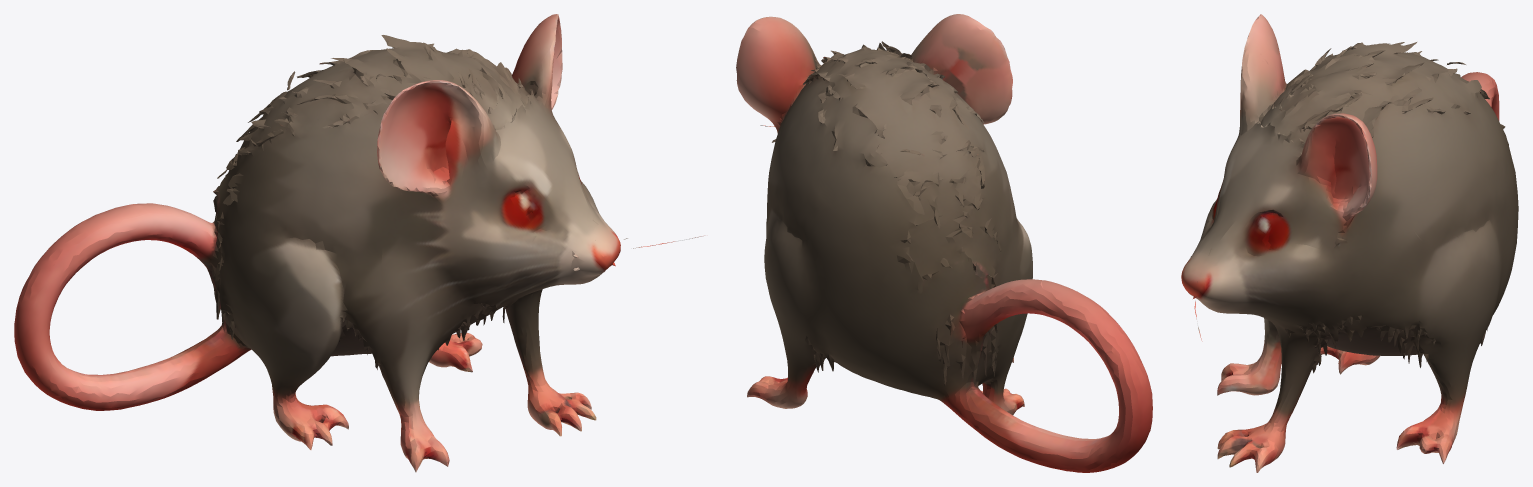
File: SewerRat.glb
3 views of the same model, side by side, from view 1: azimuth 30°, elevation 25°; view 2: azimuth 150°, elevation 25°; view 3: azimuth 270°, elevation 25° (orthographic). The views are drawn at different scales.
Parts seen in each view (by area): view 1: SewerRat_Rodin; view 2: SewerRat_Rodin; view 3: SewerRat_Rodin.
Boxes of the visible parts, box(x1,y1,x2,y2) form: SewerRat_Rodin: box(14, 14, 705, 472); SewerRat_Rodin: box(736, 14, 1152, 472); SewerRat_Rodin: box(1181, 14, 1518, 472).
Size of the model in its own units: 5.61 by 3.63 by 2.93.
Materials: 1 (1 with a texture image).
